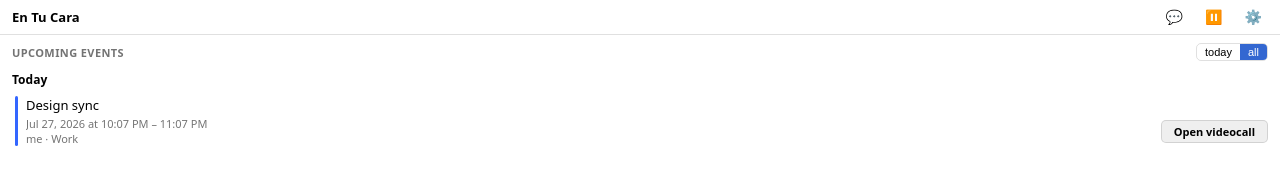
Test: TrayPopover › right-click → Ignore sends ignore_occurrence for THAT occurrence (with its end) and dims it
Right-click the text "Design sync" at (62,105), box left=26, top=96, right=99, bottom=114
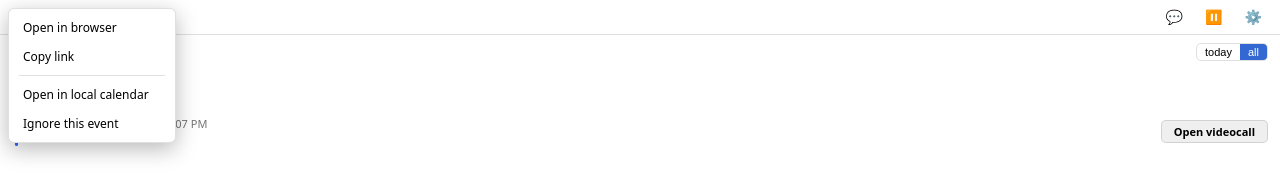
Click the button "Ignore this event" at (92,124), box left=13, top=109, right=171, bottom=138
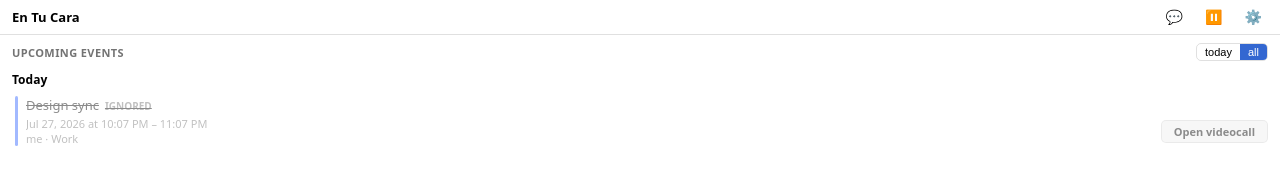
expect the text "IGNORED" is shown: met, box left=105, top=99, right=152, bottom=113
